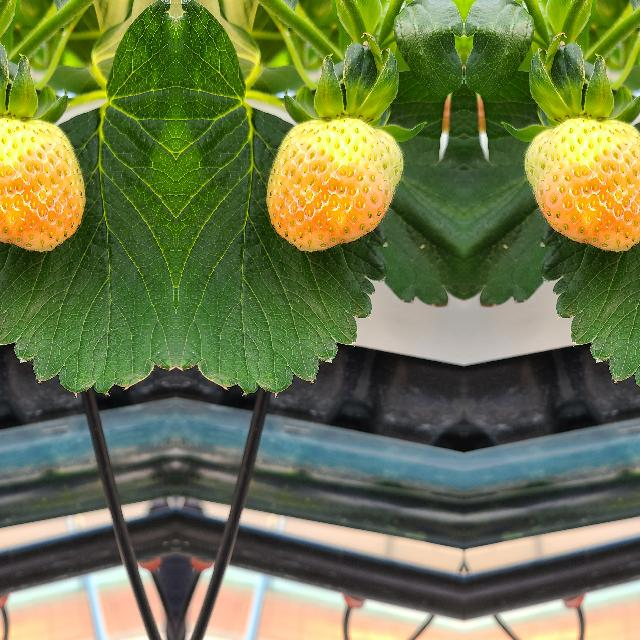Health_50: (263, 116, 405, 254), (521, 115, 640, 254), (0, 115, 87, 254)
